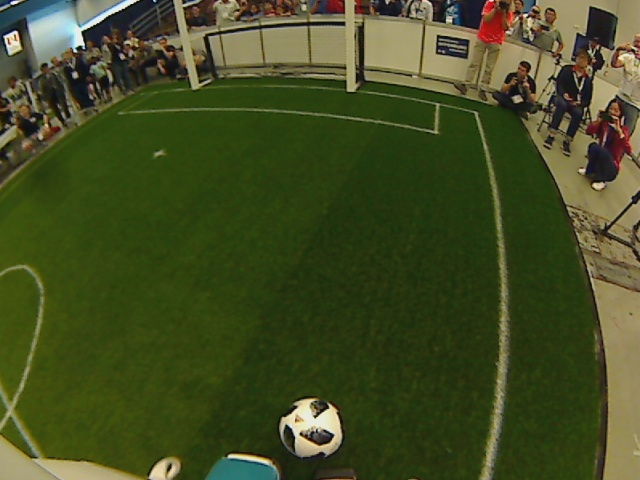ball: (276, 397, 344, 460)
